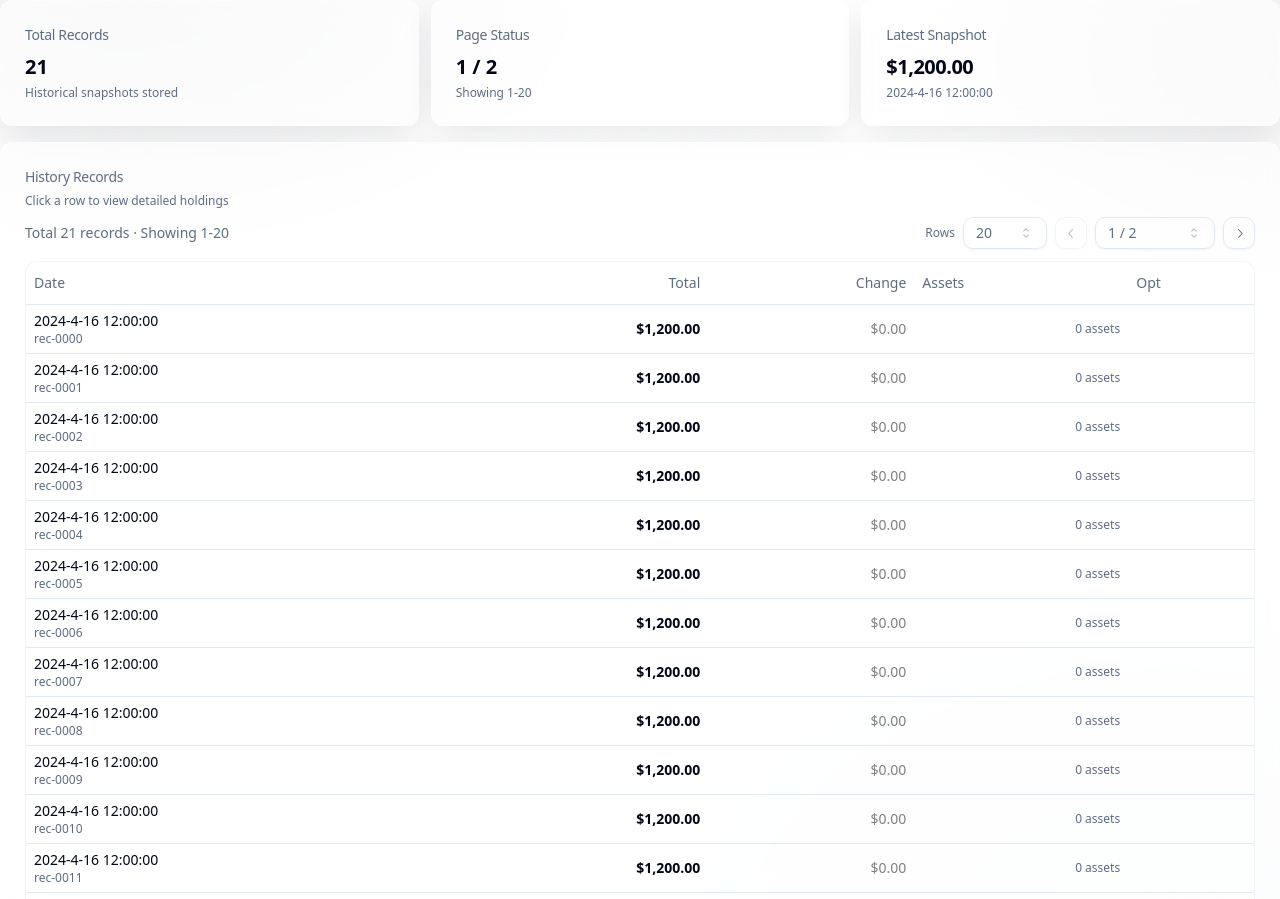
Scenario: Historical-data — delete does not flash loading overlay › keeps the loading overlay hidden when deleting the only row on the last page
Expected: the text "rec-0000" is shown, [34,330,83,346]
Click the button named "next page": (1239, 233) [1223,217,1255,249]
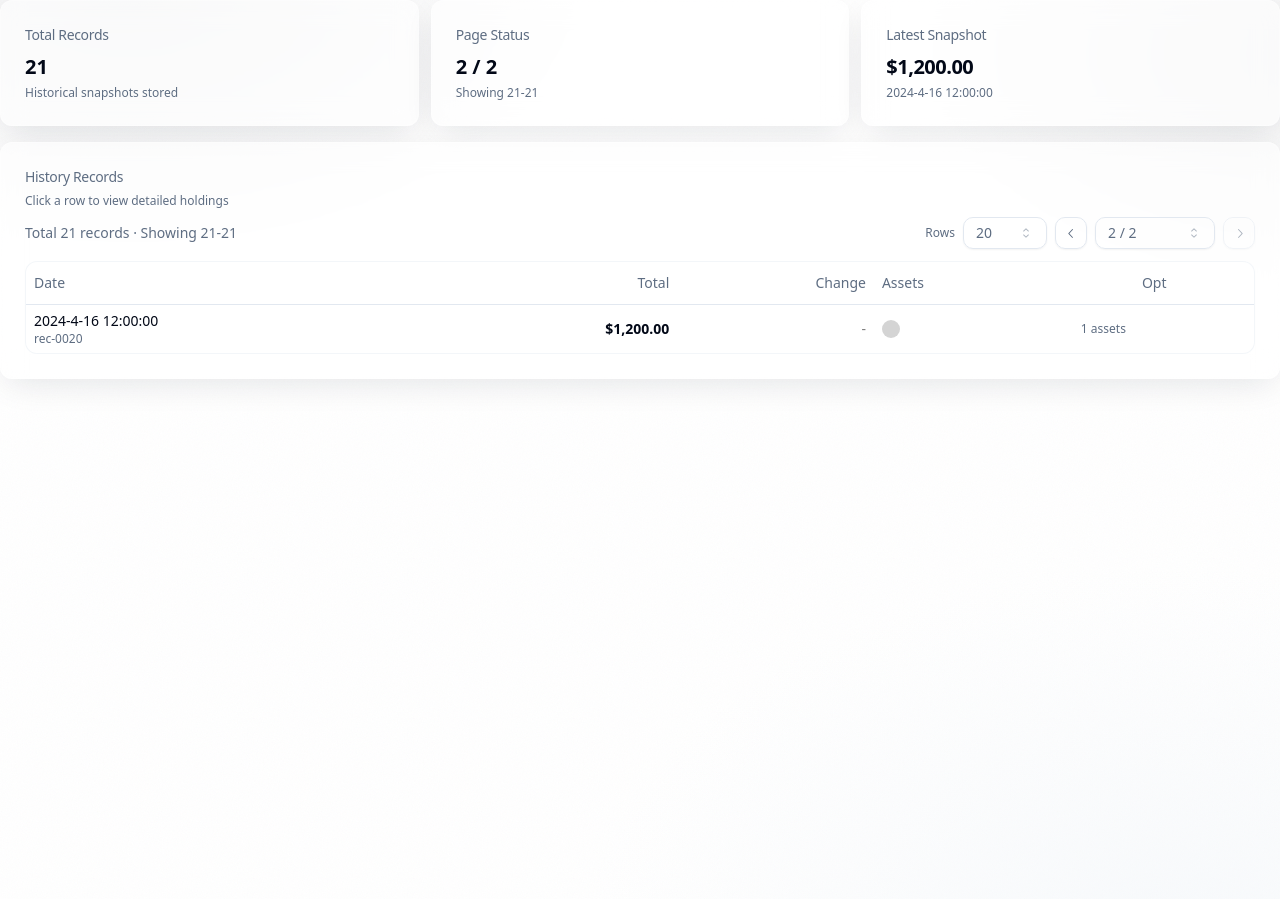
Expected: the text "rec-0020" is shown
Click the text "rec-0020": (58, 338) [34,330,83,346]
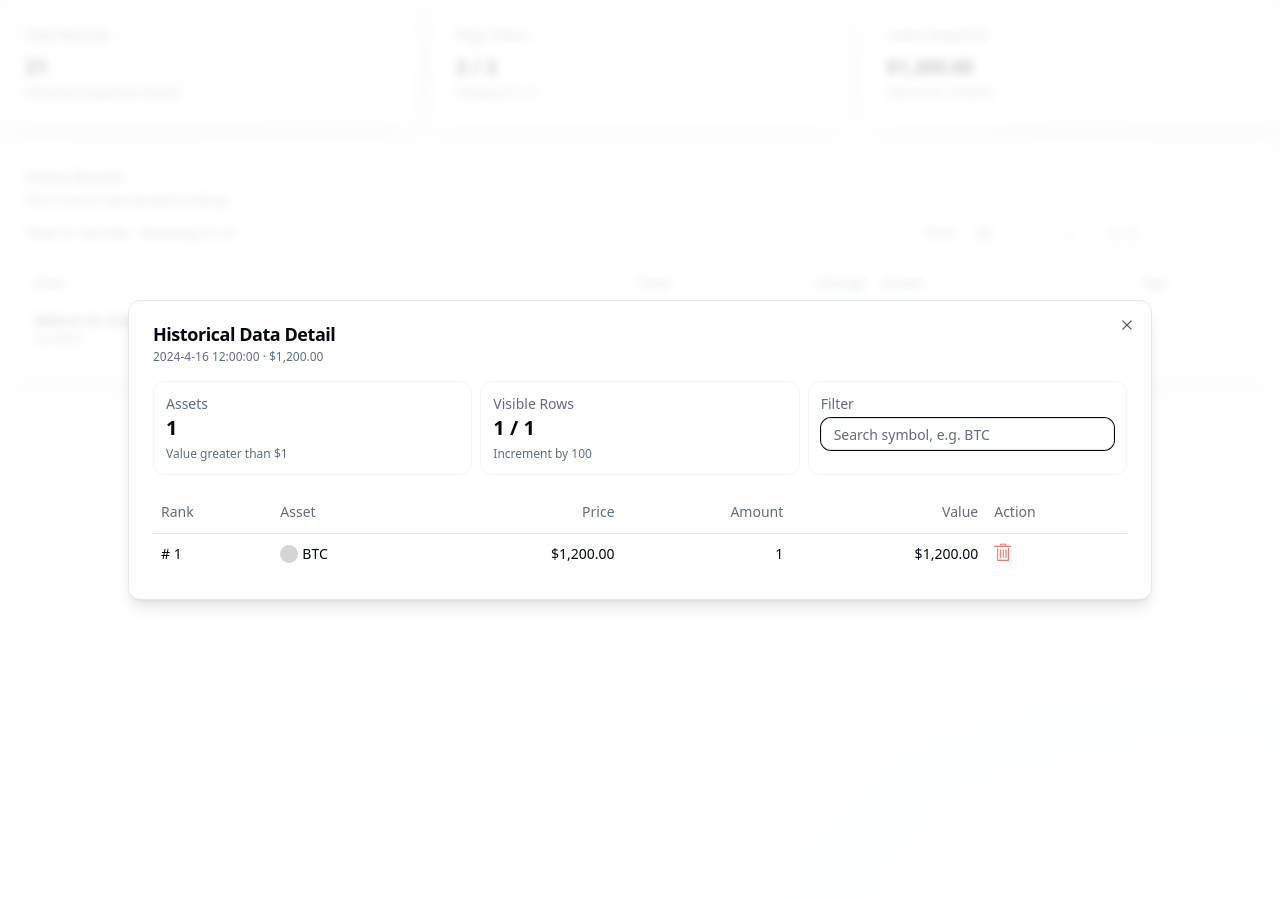
Click the button named "delete": (1003, 552) [994,543,1012,561]
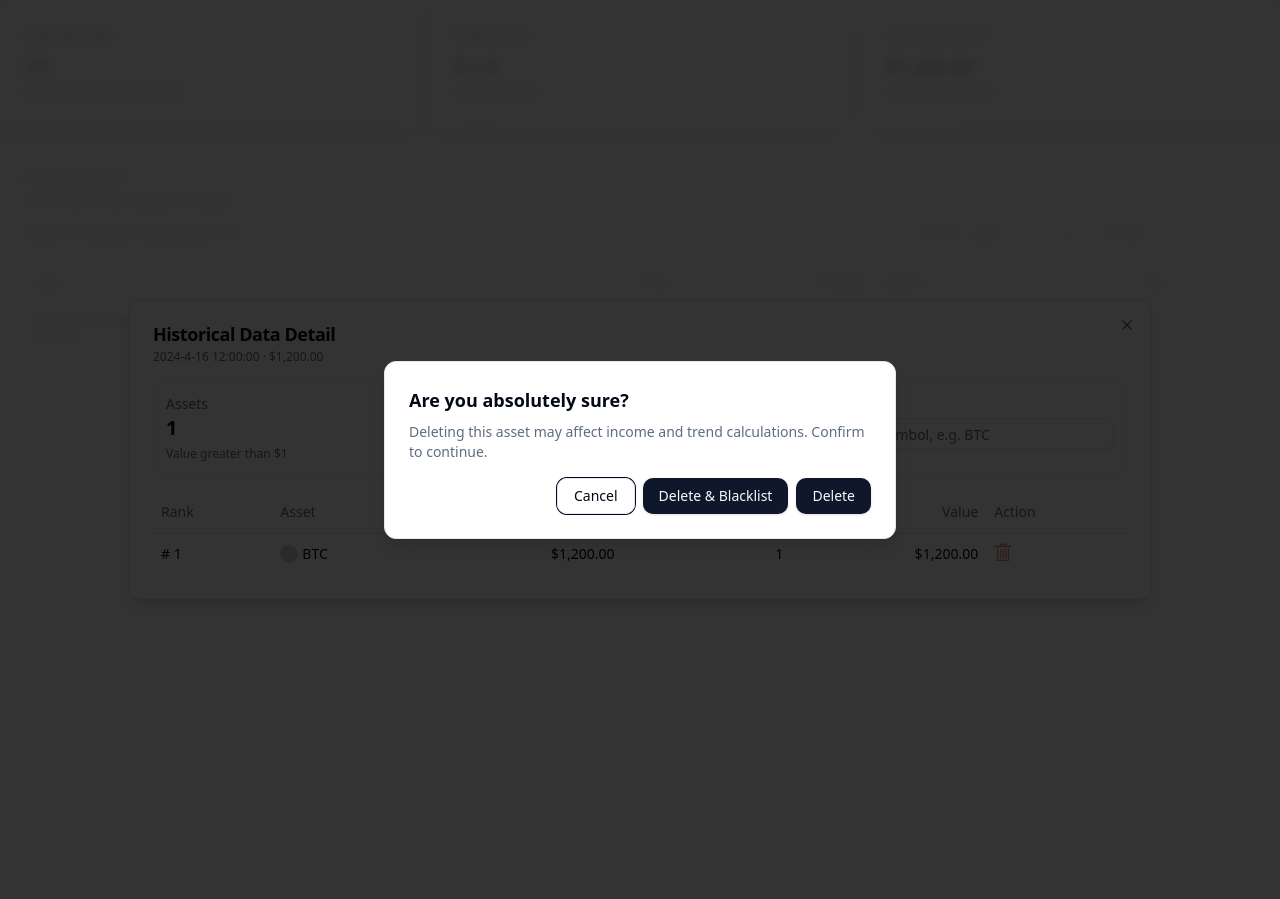
Click the button "Delete": (834, 496) [796,478,871,514]
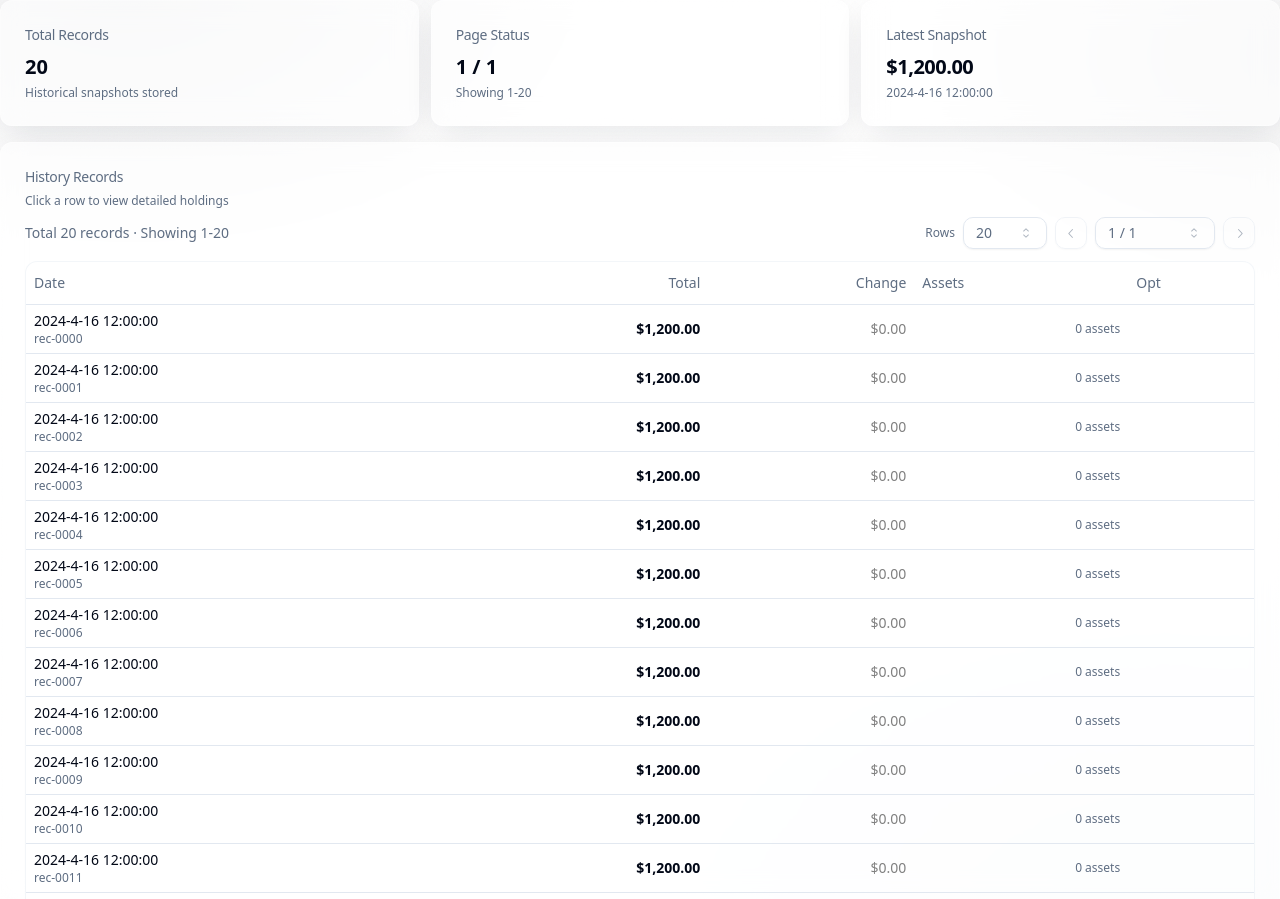
Expected: the text "rec-0000" is shown, [34,330,83,346]
